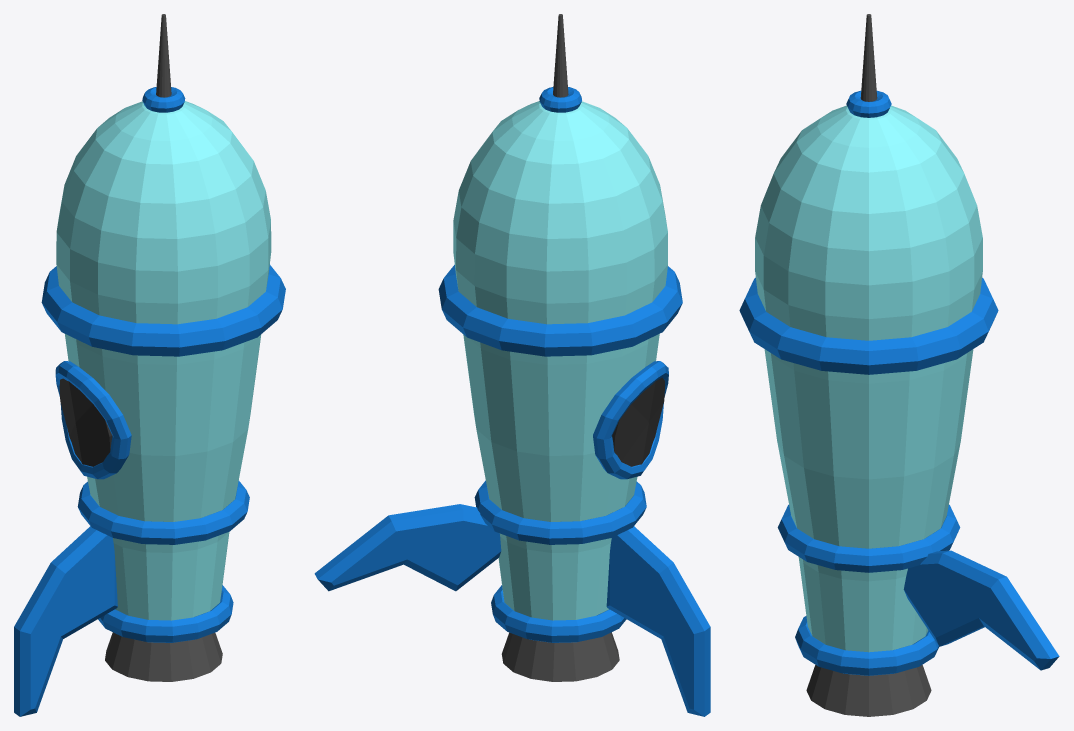
Rendered from Broken Rocket.fbx.
3 renders of one model, left to right at view 1: azimuth 30°, elevation 25°; view 2: azimuth 150°, elevation 25°; view 3: azimuth 270°, elevation 25°, orthographic. The views are drawn at different scales.
Parts seen in each view (by area): view 1: Rocket.001; view 2: Rocket.001; view 3: Rocket.001.
Boxes of the visible parts, x1,y1,x2,y2 form: Rocket.001: (14, 14, 285, 716); Rocket.001: (314, 14, 710, 716); Rocket.001: (739, 14, 1059, 716).
Size of the model in its own units: 1308 by 2707 by 1125.
